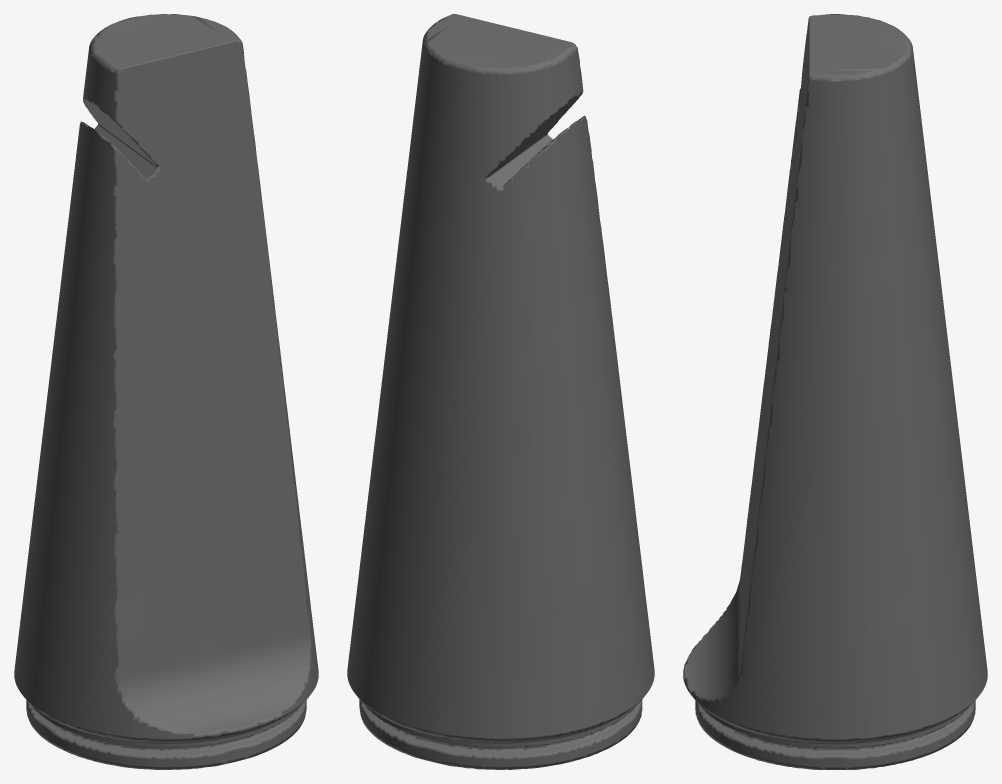
File: bishop-black-hd.glb
3 renders of one model, left to right at view 1: azimuth 30°, elevation 25°; view 2: azimuth 150°, elevation 25°; view 3: azimuth 270°, elevation 25°, orthographic.
Visible parts, largest first — view 1: 03_strelec_cerna; view 2: 03_strelec_cerna; view 3: 03_strelec_cerna.
Part boxes in pixels (x1,y1,x2,y2): 03_strelec_cerna: (14,14,318,769); 03_strelec_cerna: (347,14,654,769); 03_strelec_cerna: (683,14,987,769).
Bounding box in the file's own units: 0.5622 × 1.36 × 0.5624.
Materials: 1 (1 with a texture image).
